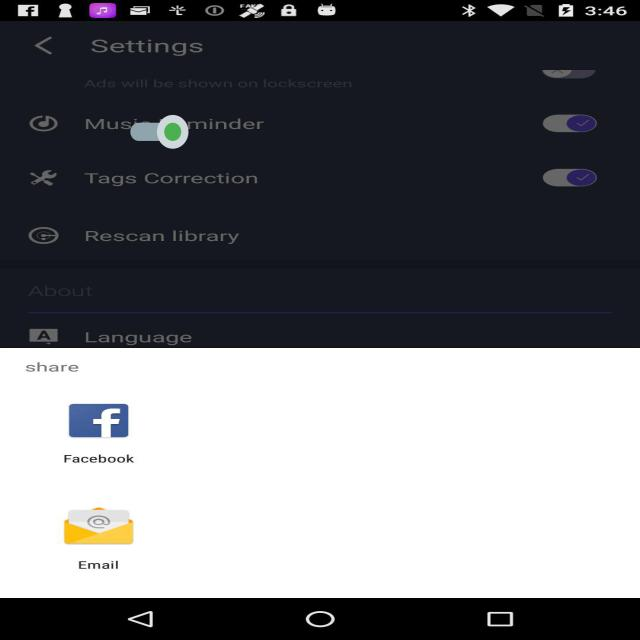social proof: (130, 101, 188, 163)
